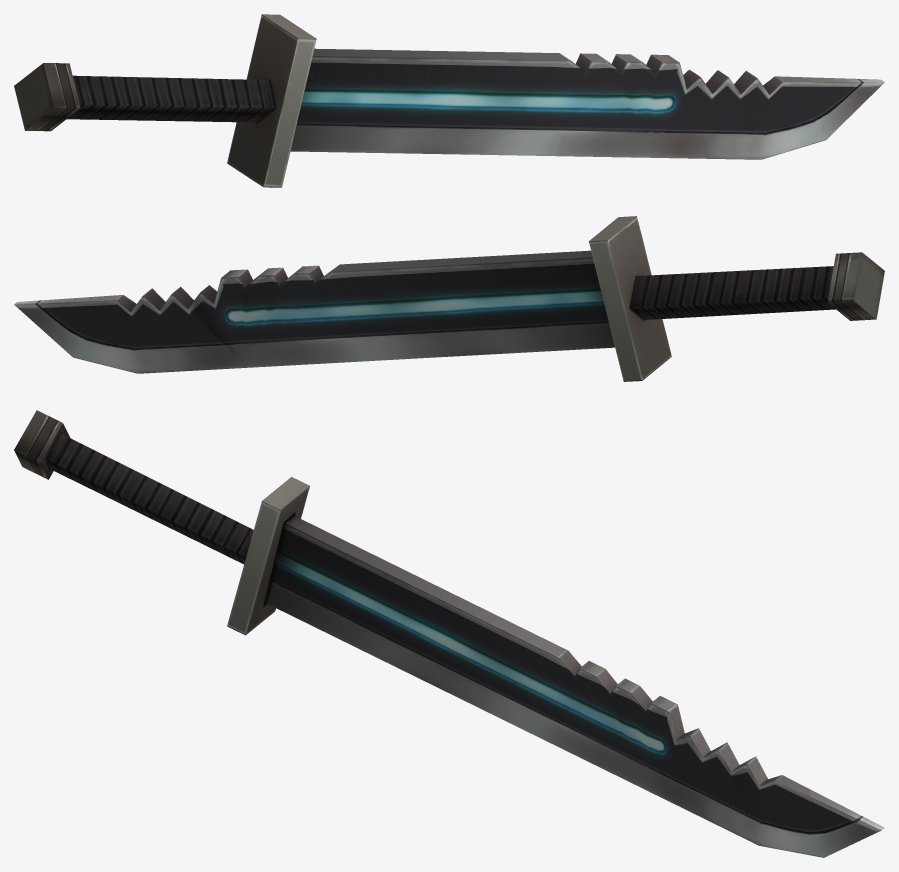
The picture shows the model from 3 angles, top to bottom: view 1: azimuth 30°, elevation 25°; view 2: azimuth 150°, elevation 25°; view 3: azimuth 330°, elevation 25°; orthographic projection. The views are drawn at different scales.
Visible parts, largest first — view 1: 3_Z_47; view 2: 3_Z_47; view 3: 3_Z_47.
Boxes of the visible parts, left/top/right/bottom form: 3_Z_47: left=14, top=14, right=884, bottom=187; 3_Z_47: left=14, top=216, right=884, bottom=381; 3_Z_47: left=14, top=410, right=884, bottom=857.
Bounding box in the file's own units: 164 × 13.99 × 51.74.
